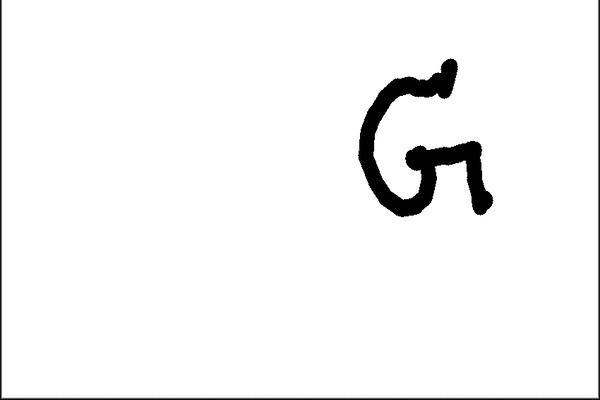G: (352, 50, 496, 224)
